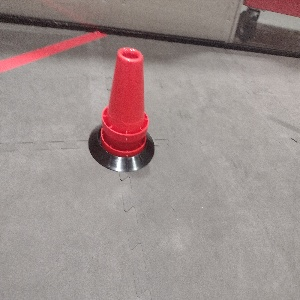Red_2: (98, 44, 149, 157)
